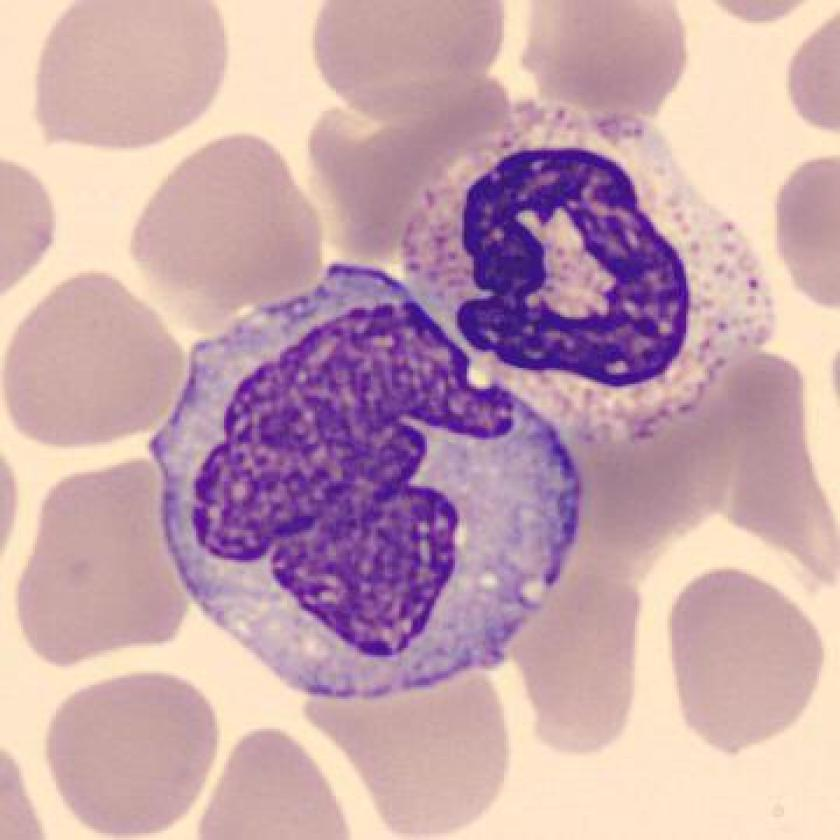monocyte: (132, 244, 608, 714)
